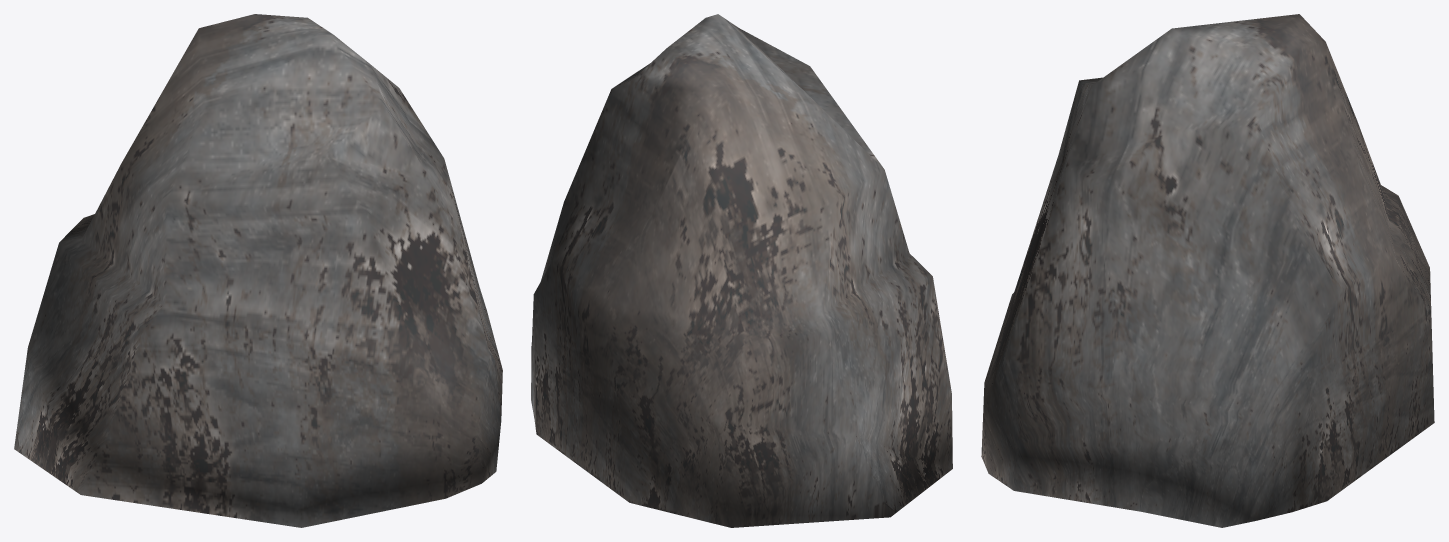
Rendered from stone12.fbx.
The picture shows the model from 3 angles, left to right: view 1: azimuth 30°, elevation 25°; view 2: azimuth 150°, elevation 25°; view 3: azimuth 270°, elevation 25°; orthographic projection. The views are drawn at different scales.
Visible parts, largest first — view 1: polySurface13; view 2: polySurface13; view 3: polySurface13.
Boxes of the visible parts, x1=… form: polySurface13: x1=14, y1=14, x2=502, y2=527; polySurface13: x1=531, y1=14, x2=952, y2=527; polySurface13: x1=981, y1=14, x2=1434, y2=527.
Size of the model in its own units: 2.53 by 2.41 by 2.36.
1 material, 1 textured.
